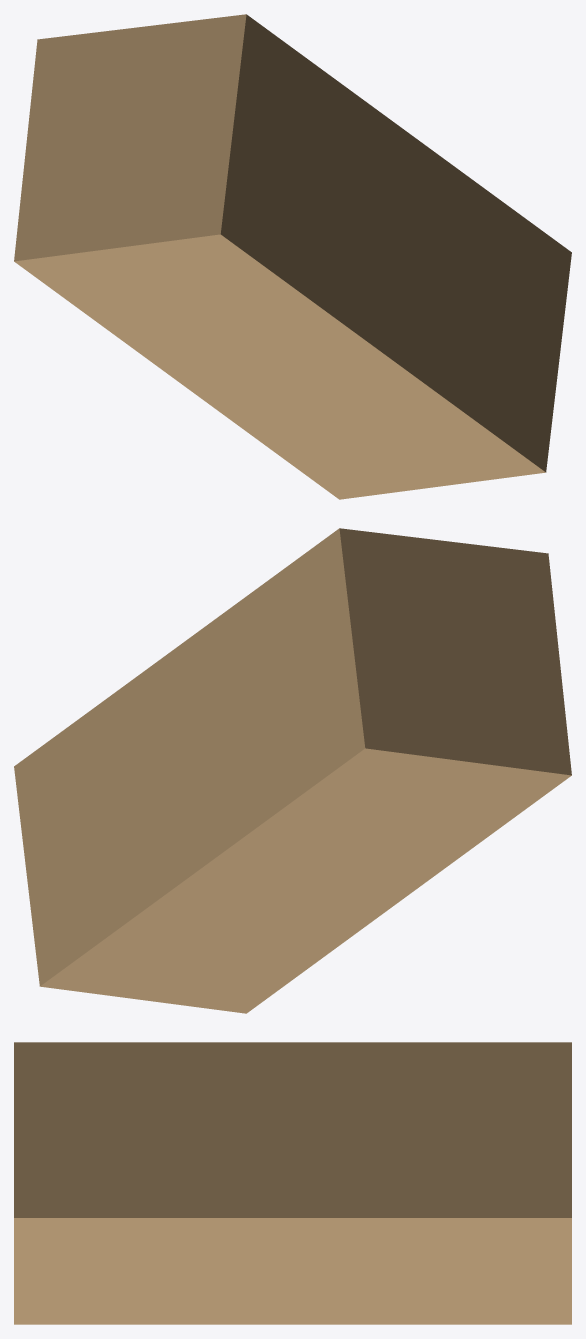
3 views of the same model, one above another, from view 1: azimuth 30°, elevation 25°; view 2: azimuth 150°, elevation 25°; view 3: azimuth 270°, elevation 25° (orthographic). The views are drawn at different scales.
Parts seen in each view (by area): view 1: 0_0_3_1_3_3_2_2_2_0; view 2: 0_0_3_1_3_3_2_2_2_0; view 3: 0_0_3_1_3_3_2_2_2_0.
Boxes of the visible parts, box(x1,y1,x2,y2) form: 0_0_3_1_3_3_2_2_2_0: box(14, 14, 571, 499); 0_0_3_1_3_3_2_2_2_0: box(14, 528, 571, 1013); 0_0_3_1_3_3_2_2_2_0: box(14, 1042, 571, 1324).
Bounding box in the file's own units: 9.9 × 9.75 × 24.
